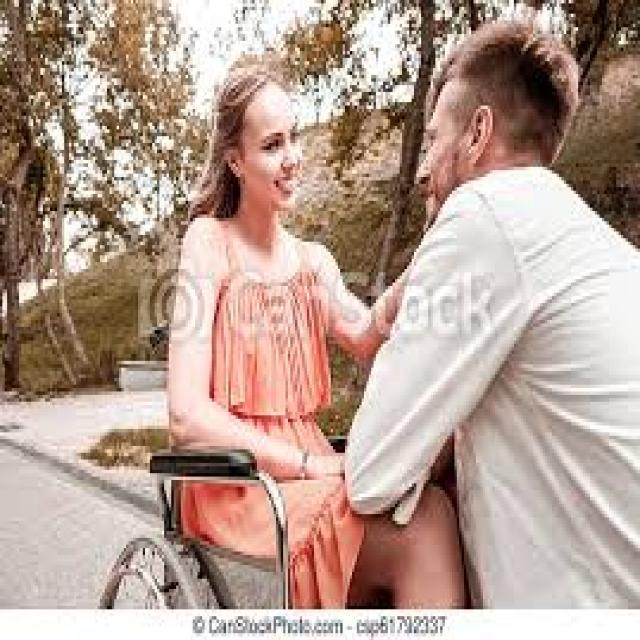wheelchairs: (90, 320, 448, 606)
